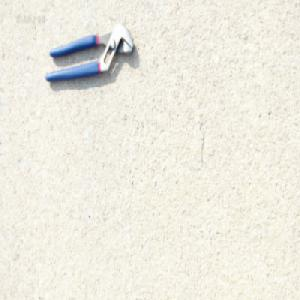Pliers: (43, 22, 135, 84)
